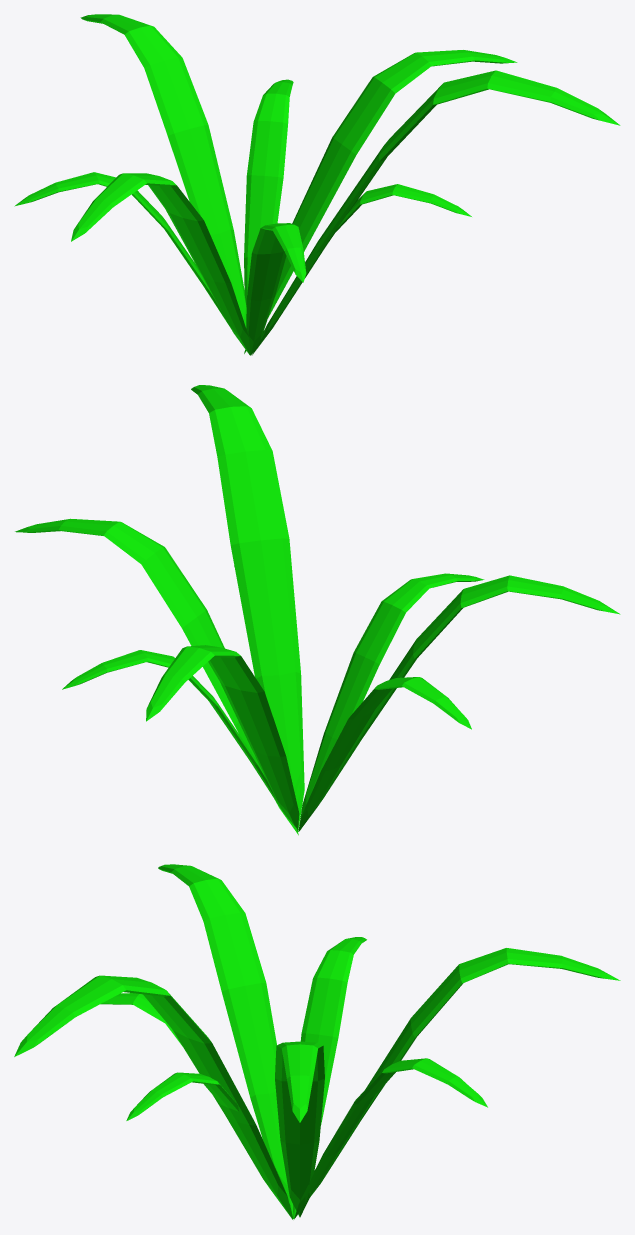
The model's file is grass.fbx.
3 views of the same model, one above another, from view 1: azimuth 30°, elevation 25°; view 2: azimuth 150°, elevation 25°; view 3: azimuth 270°, elevation 25° (orthographic). The views are drawn at different scales.
Visible parts, largest first — view 1: Plane.017; view 2: Plane.017; view 3: Plane.017.
Part boxes in pixels (x1,y1,x2,y2): Plane.017: (14, 14, 620, 355); Plane.017: (15, 385, 620, 835); Plane.017: (14, 864, 620, 1219).
Bounding box in the file's own units: 185 × 106 × 183.
